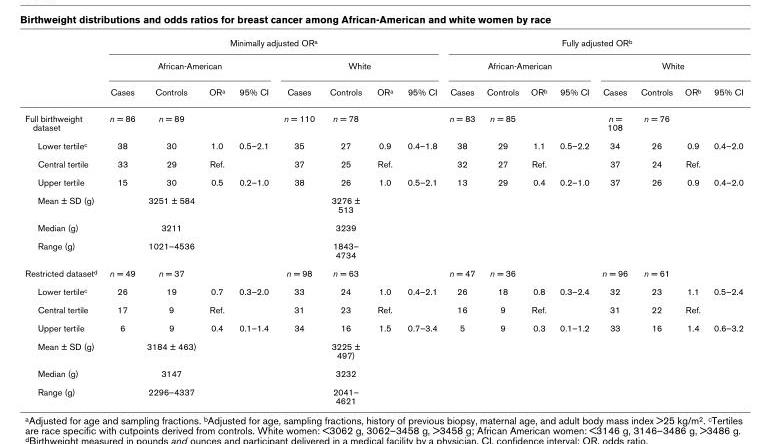table: (24, 36, 742, 405)
table column: (24, 36, 102, 405), (140, 36, 201, 405), (321, 36, 368, 405), (275, 36, 321, 405), (633, 36, 678, 405), (231, 36, 275, 405), (480, 36, 524, 405), (399, 36, 442, 405), (552, 36, 595, 405), (102, 36, 140, 405), (442, 36, 480, 405), (595, 36, 633, 405), (706, 36, 742, 405), (368, 36, 399, 405), (201, 36, 231, 405), (524, 36, 552, 405), (678, 36, 706, 405)
table column header: (24, 36, 742, 104)
table row: (24, 104, 742, 135), (24, 190, 742, 218), (24, 236, 742, 263), (24, 336, 742, 363), (24, 78, 742, 104), (24, 53, 742, 78), (24, 382, 742, 405), (24, 135, 742, 154), (24, 281, 742, 300), (24, 363, 742, 382), (24, 154, 742, 172), (24, 172, 742, 190), (24, 218, 742, 236), (24, 263, 742, 281), (24, 300, 742, 318), (24, 318, 742, 336), (24, 36, 742, 53)
table spanning cell: (102, 36, 442, 53), (442, 36, 742, 53), (102, 53, 275, 78), (275, 53, 442, 78), (442, 53, 595, 78), (595, 53, 742, 78)
